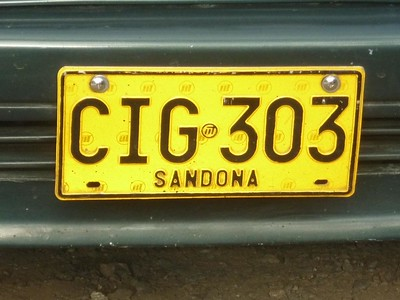placa_carro: (48, 63, 368, 201)
